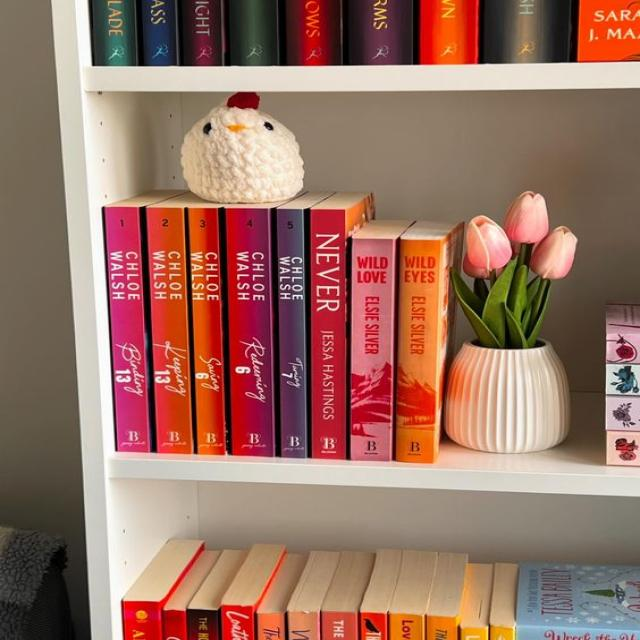book: (310, 193, 372, 459), (395, 223, 461, 462), (350, 221, 407, 460), (104, 202, 152, 452), (226, 206, 272, 456), (148, 202, 192, 453), (188, 206, 226, 454), (276, 207, 309, 458)
flowers: (446, 192, 575, 452)
